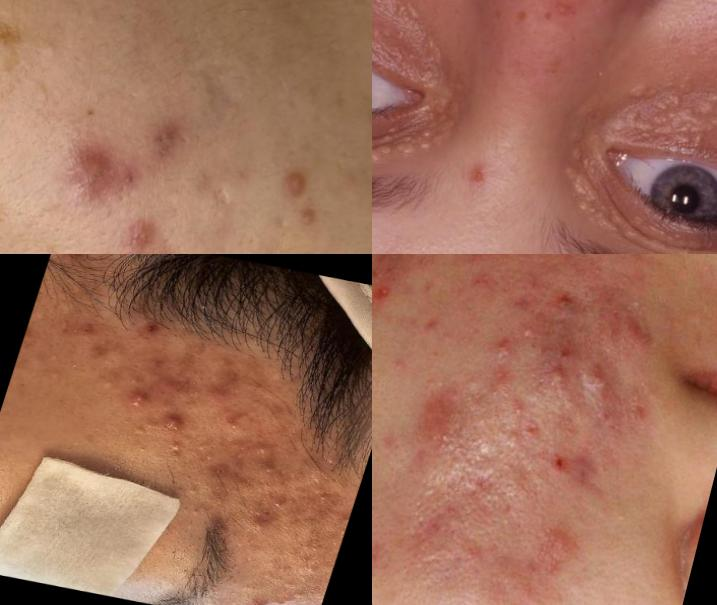acne_scars: (194, 159, 266, 227)
blackhead: (129, 436, 161, 466), (177, 498, 212, 522), (259, 460, 285, 478), (1, 459, 8, 486)
papular: (54, 136, 140, 215), (463, 152, 506, 199), (198, 379, 233, 408), (373, 285, 399, 318), (585, 364, 615, 390), (250, 439, 278, 461)
purulent: (544, 362, 577, 396)
sebo-crystan-conglo: (239, 509, 280, 544), (155, 408, 196, 441), (125, 387, 152, 418)
syringoma: (538, 114, 614, 231), (373, 1, 467, 89), (624, 97, 717, 159), (553, 191, 642, 248), (373, 116, 446, 170), (629, 78, 691, 122), (373, 1, 436, 38), (690, 103, 717, 168)
whitehead: (20, 19, 80, 83), (184, 435, 227, 469), (510, 315, 550, 351), (89, 363, 128, 397), (625, 289, 657, 322), (251, 564, 288, 587), (38, 345, 70, 370), (511, 394, 536, 420), (433, 426, 457, 451), (299, 558, 323, 578), (432, 375, 455, 395), (285, 587, 311, 603)
